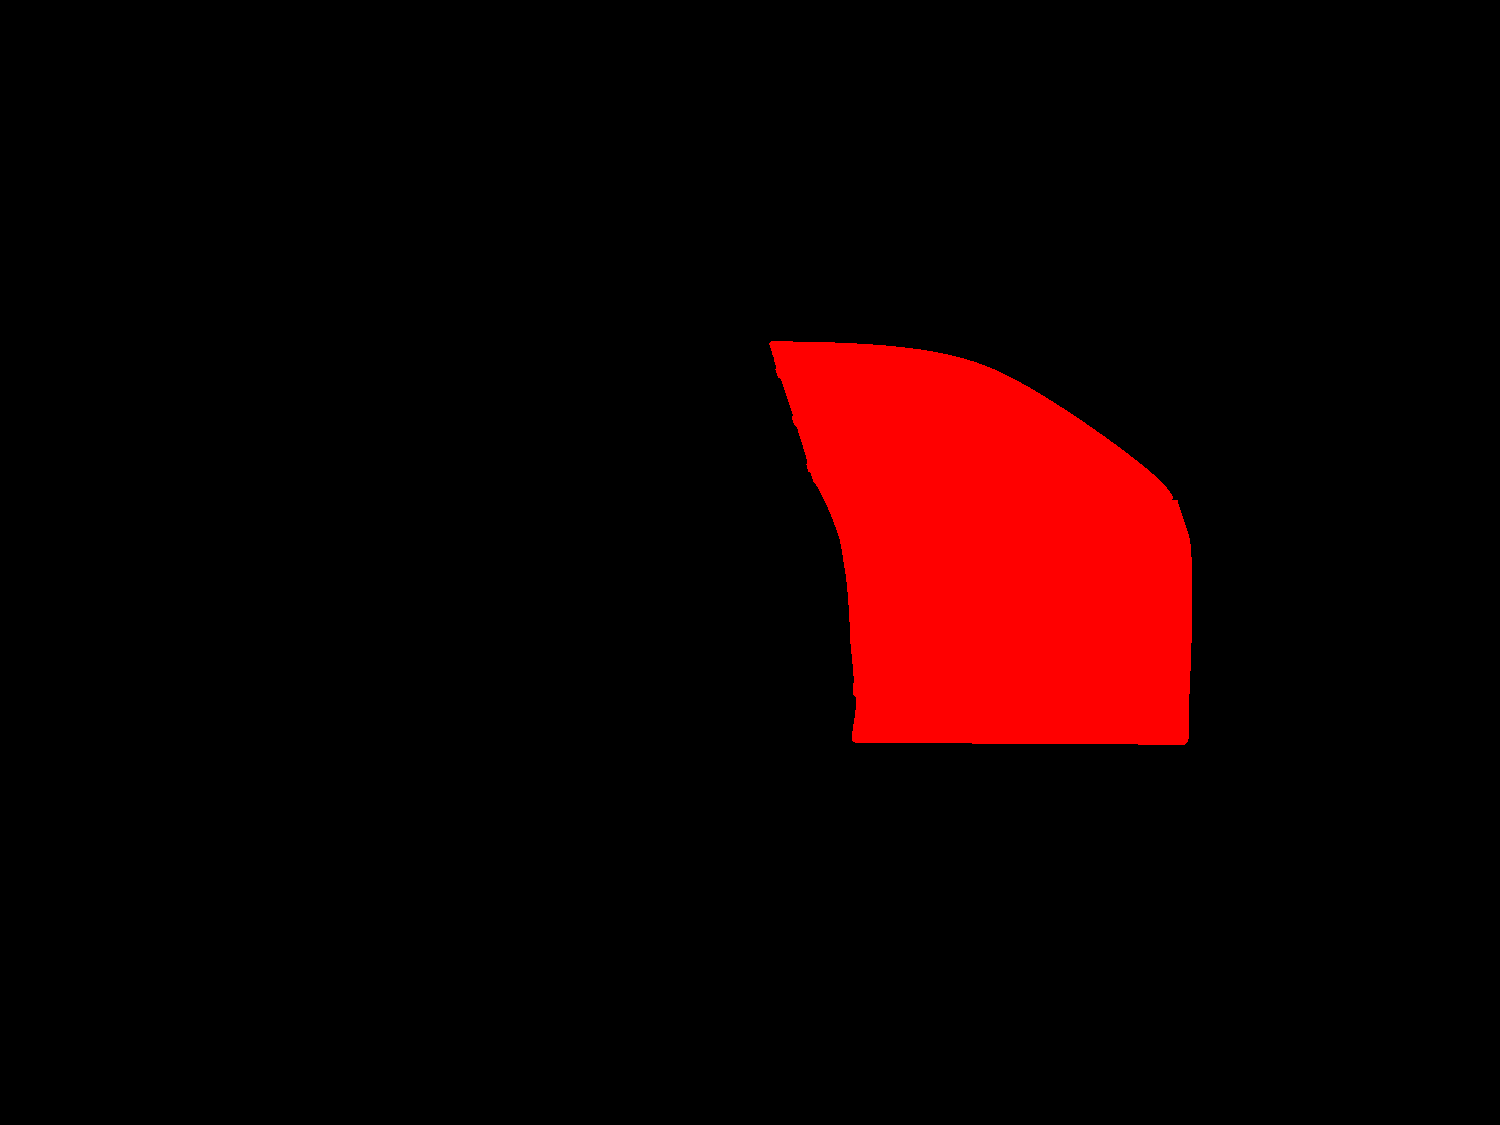car_door: (765, 334, 1194, 747)
